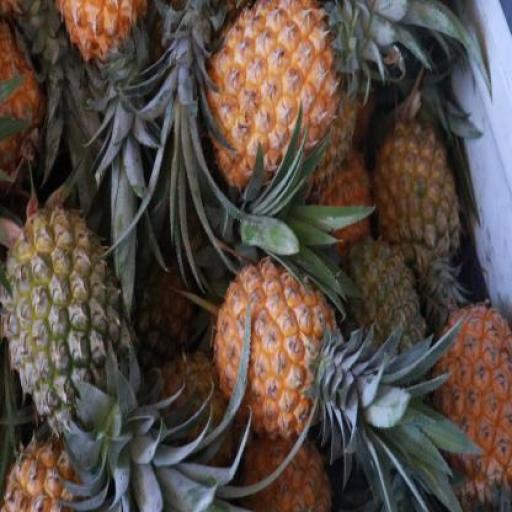------------------------------: (3, 203, 137, 432), (374, 117, 460, 289)
Pineapple - v8 v1: (198, 2, 348, 197), (214, 257, 334, 442), (438, 300, 510, 502)
